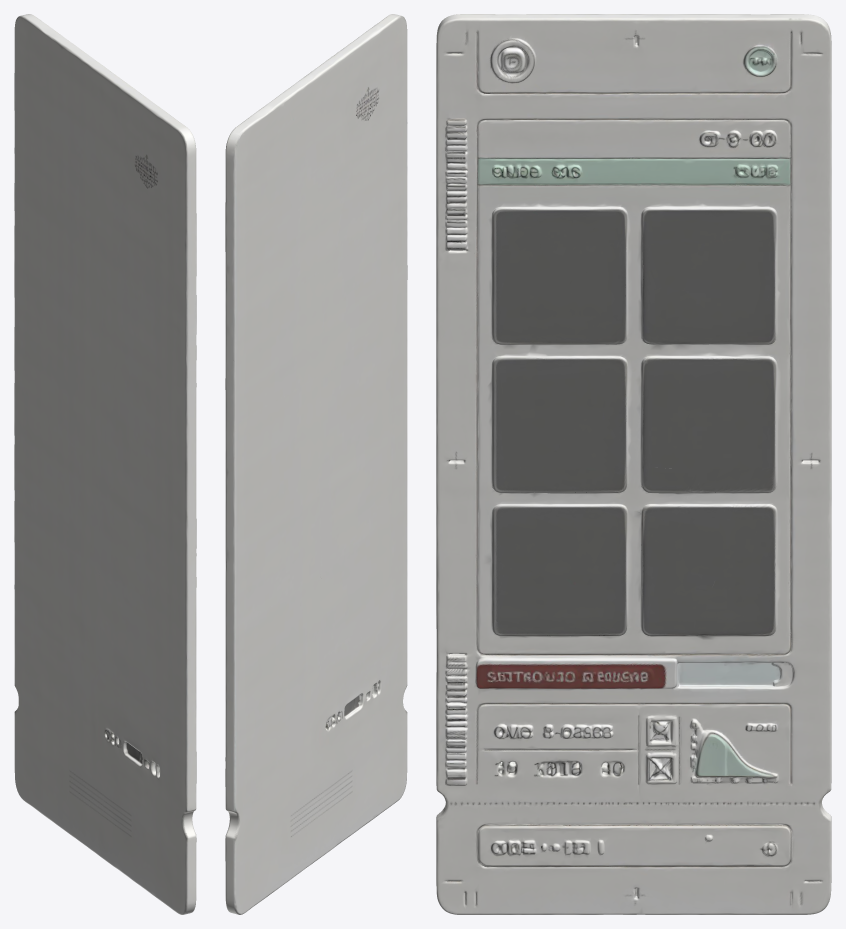
Rendered from lottery.glb.
The picture shows the model from 3 angles, left to right: view 1: azimuth 30°, elevation 25°; view 2: azimuth 150°, elevation 25°; view 3: azimuth 270°, elevation 25°; orthographic projection. The views are drawn at different scales.
Parts seen in each view (by area): view 1: tripo_node_fec3f8b1-ca2a-4b2f-9ca1-cf14e32993e0; view 2: tripo_node_fec3f8b1-ca2a-4b2f-9ca1-cf14e32993e0; view 3: tripo_node_fec3f8b1-ca2a-4b2f-9ca1-cf14e32993e0.
Boxes of the visible parts, bbox=[...] form: tripo_node_fec3f8b1-ca2a-4b2f-9ca1-cf14e32993e0: bbox=[14, 14, 196, 914]; tripo_node_fec3f8b1-ca2a-4b2f-9ca1-cf14e32993e0: bbox=[225, 14, 407, 914]; tripo_node_fec3f8b1-ca2a-4b2f-9ca1-cf14e32993e0: bbox=[436, 14, 831, 914].
Bounding box in the file's own units: 0.0203 × 1 × 0.3996.
1 material, 1 textured.
